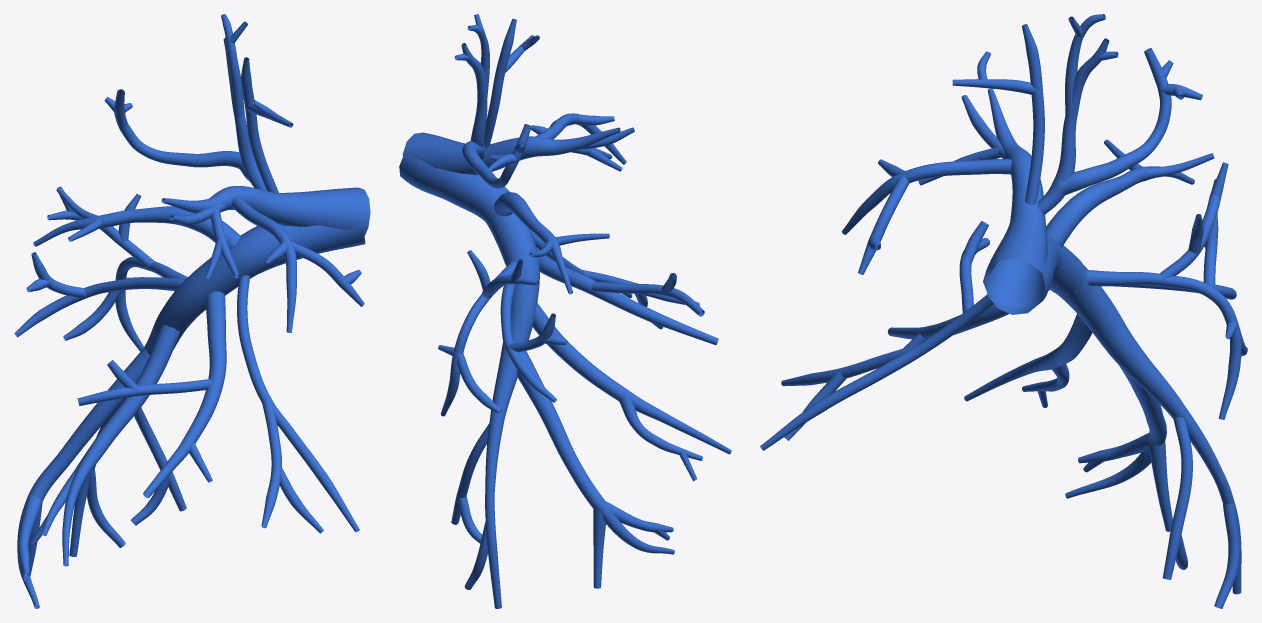
The model's file is circulatorio-right-pulmonary-artery.glb.
3 renders of one model, left to right at view 1: azimuth 30°, elevation 25°; view 2: azimuth 150°, elevation 25°; view 3: azimuth 270°, elevation 25°, orthographic. The views are drawn at different scales.
Parts seen in each view (by area): view 1: Anterior segmental artery of right lung, Apical segmental artery of right lung, Superior segmental artery of right lung, Lateral segmental artery of right lung, Medial segmental artery of right lung, Lateral basal segmental artery of right lung, Anterior basal segmental artery of right lung, Superior lobar artery of right lung, Right pulmonary artery, Posterior segmental artery of right lung, Middle lobar artery of right lung, Inferior lobar artery of right lung (+2 smaller); view 2: Superior segmental artery of right lung, Apical segmental artery of right lung, Anterior basal segmental artery of right lung, Lateral basal segmental artery of right lung, Anterior segmental artery of right lung, Posterior basal segmental artery of right lung, Lateral segmental artery of right lung, Right pulmonary artery, Posterior segmental artery of right lung, Superior lobar artery of right lung, Inferior lobar artery of right lung, Middle lobar artery of right lung (+2 smaller); view 3: Apical segmental artery of right lung, Anterior segmental artery of right lung, Superior segmental artery of right lung, Medial segmental artery of right lung, Posterior basal segmental artery of right lung, Superior lobar artery of right lung, Anterior basal segmental artery of right lung, Posterior segmental artery of right lung, Inferior lobar artery of right lung, Lateral basal segmental artery of right lung, Lateral segmental artery of right lung, Medial basal segmental artery of right lung (+2 smaller).
Boxes of the visible parts, <box> form: Anterior segmental artery of right lung: <box>161,186,364,332</box>; Apical segmental artery of right lung: <box>104,14,293,194</box>; Superior segmental artery of right lung: <box>14,186,189,351</box>; Lateral segmental artery of right lung: <box>77,291,226,497</box>; Medial segmental artery of right lung: <box>237,275,359,533</box>; Lateral basal segmental artery of right lung: <box>30,325,179,566</box>; Anterior basal segmental artery of right lung: <box>17,347,149,608</box>; Superior lobar artery of right lung: <box>279,187,370,239</box>; Right pulmonary artery: <box>238,224,365,274</box>; Posterior segmental artery of right lung: <box>33,187,240,248</box>; Middle lobar artery of right lung: <box>186,242,257,305</box>; Inferior lobar artery of right lung: <box>145,278,205,354</box>; Superior segmental artery of right lung: <box>438,250,567,416</box>; Apical segmental artery of right lung: <box>454,14,539,188</box>; Anterior basal segmental artery of right lung: <box>517,351,674,588</box>; Lateral basal segmental artery of right lung: <box>532,303,731,481</box>; Anterior segmental artery of right lung: <box>482,113,634,171</box>; Posterior basal segmental artery of right lung: <box>464,347,517,608</box>; Lateral segmental artery of right lung: <box>528,248,718,345</box>; Right pulmonary artery: <box>399,143,509,221</box>; Posterior segmental artery of right lung: <box>494,192,609,294</box>; Superior lobar artery of right lung: <box>402,132,477,174</box>; Inferior lobar artery of right lung: <box>502,255,539,346</box>; Middle lobar artery of right lung: <box>485,207,538,264</box>; Apical segmental artery of right lung: <box>952,14,1202,214</box>; Anterior segmental artery of right lung: <box>842,88,1045,274</box>; Superior segmental artery of right lung: <box>1082,162,1247,419</box>; Medial segmental artery of right lung: <box>760,294,993,450</box>; Posterior basal segmental artery of right lung: <box>1113,342,1241,608</box>; Superior lobar artery of right lung: <box>983,208,1047,308</box>; Anterior basal segmental artery of right lung: <box>1065,365,1172,531</box>; Posterior segmental artery of right lung: <box>1046,139,1214,246</box>; Inferior lobar artery of right lung: <box>1057,264,1136,360</box>; Lateral basal segmental artery of right lung: <box>964,314,1092,407</box>; Lateral segmental artery of right lung: <box>888,221,1056,348</box>; Medial basal segmental artery of right lung: <box>1162,417,1192,579</box>.
Size of the model in its own units: 0.1423 by 0.2358 by 0.1658.
